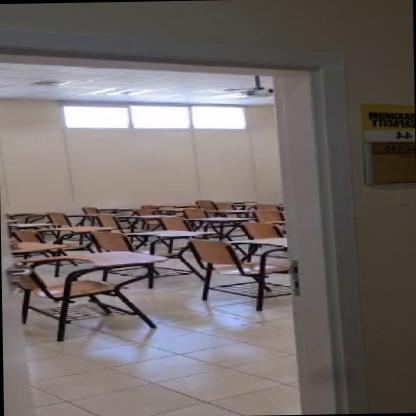open: (23, 30, 378, 411)
